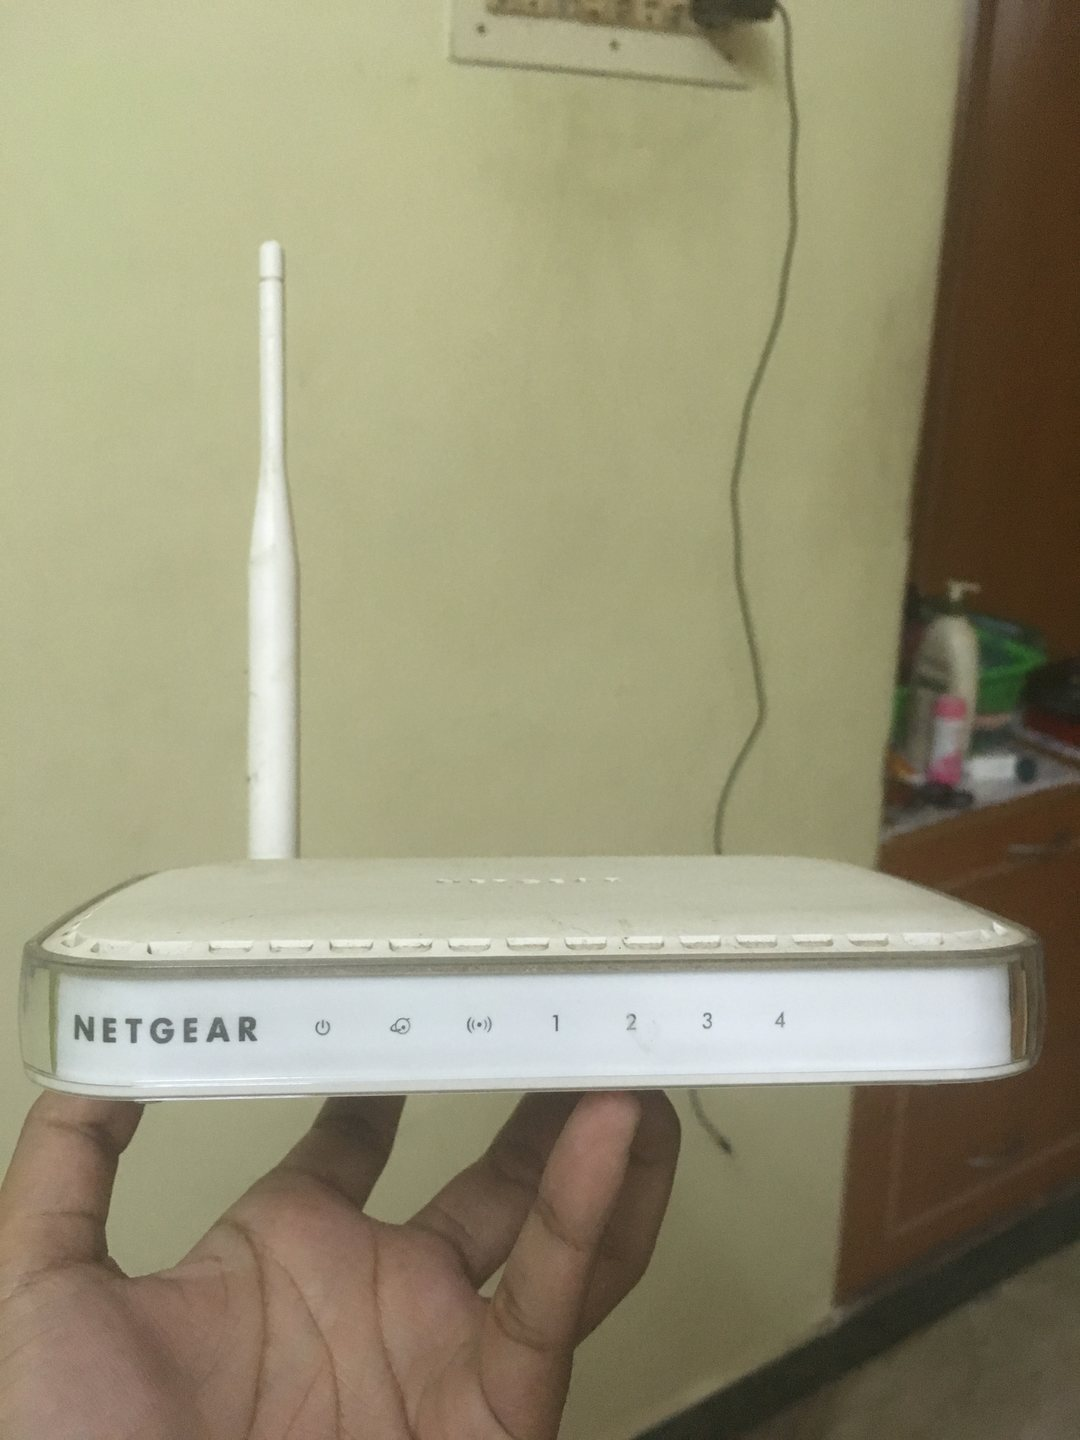NETGEAR: (64, 1009, 268, 1052)
modem: (12, 943, 1041, 1093)
